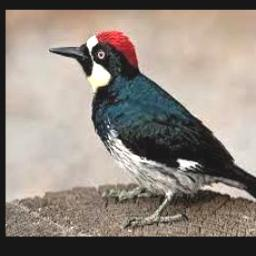Woodpecker: (48, 30, 256, 225)
